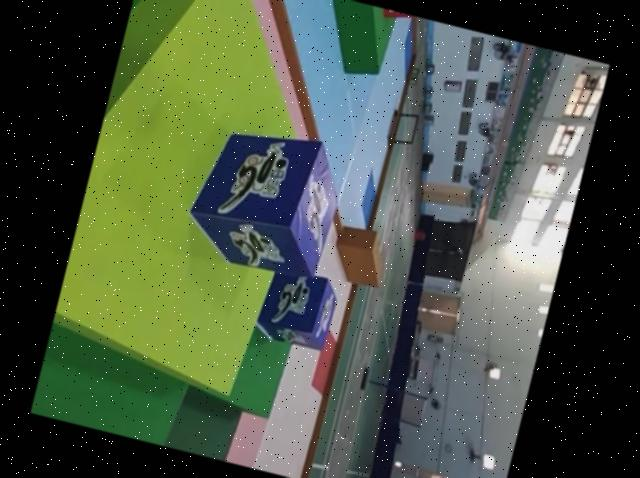R1 Blue: (178, 112, 351, 282), (250, 262, 340, 353)
